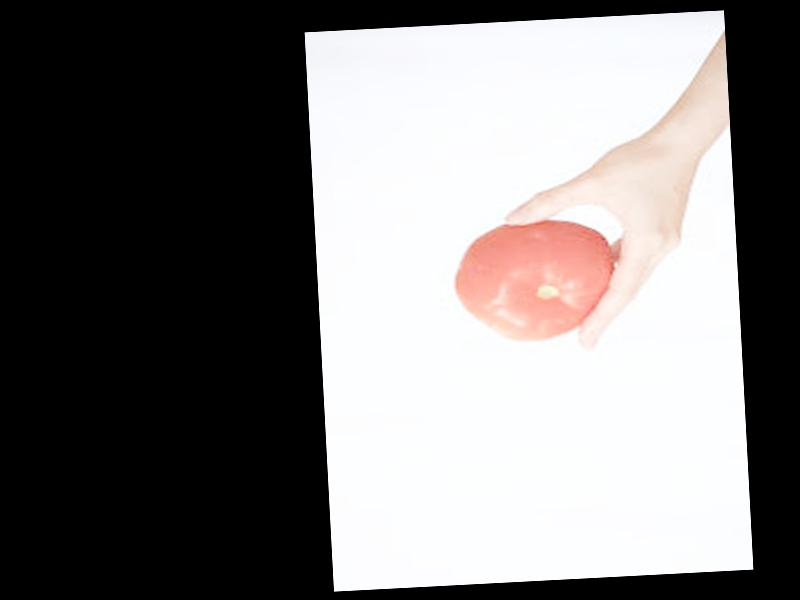Tomato: (452, 217, 613, 345)
